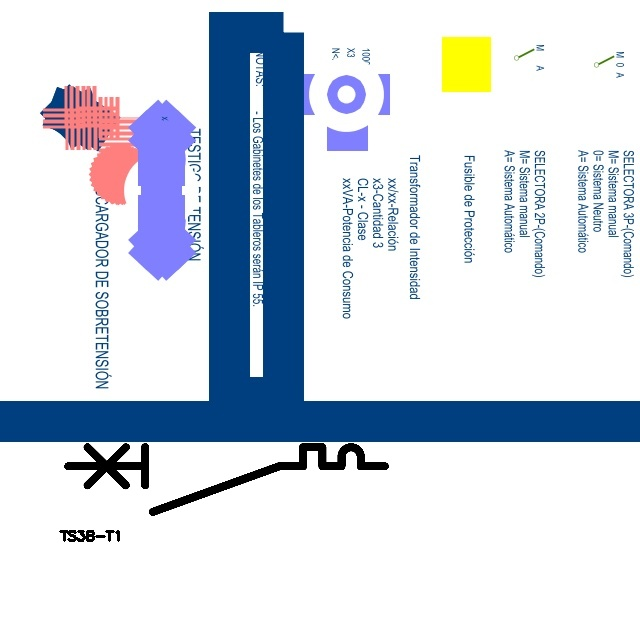interruptor_termomagnetico: (60, 439, 393, 520)
